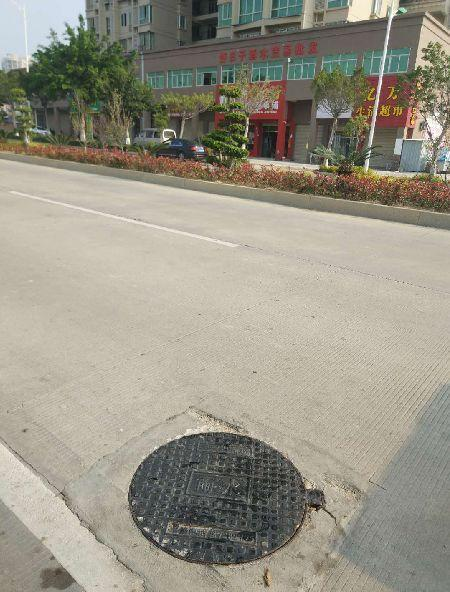good: (59, 404, 369, 591)
